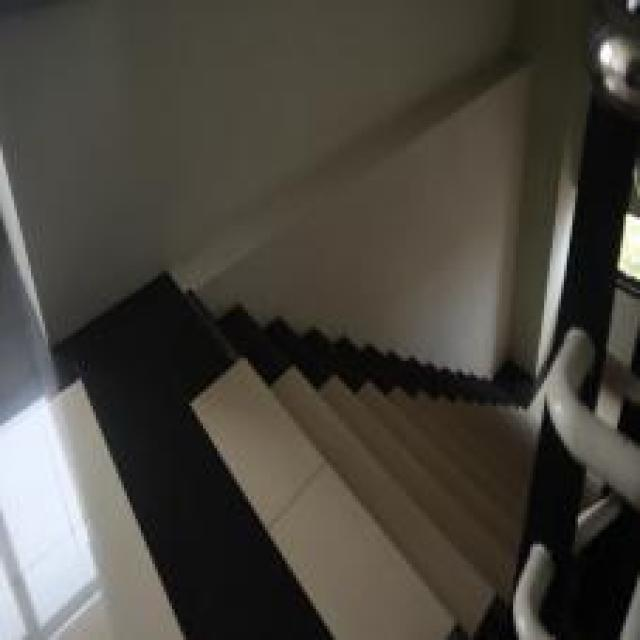downstair: (193, 328, 500, 604)
